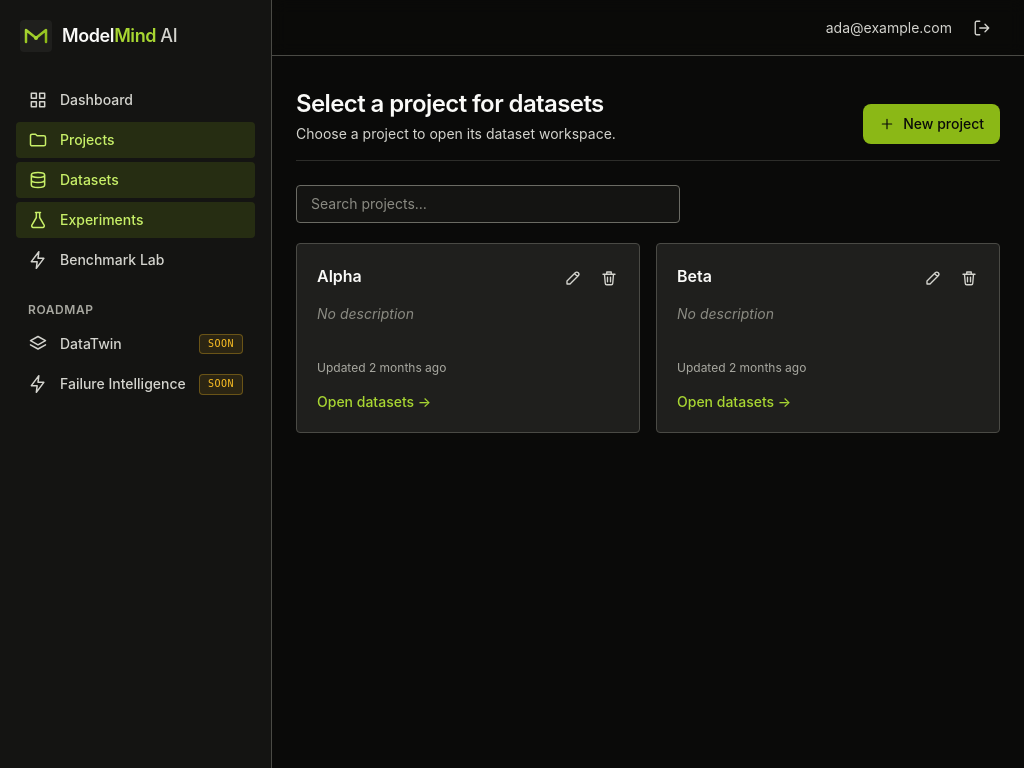
Test: Projects page › filters loaded projects by search text
Expected: the text "Alpha" is shown, 317,264 -> 362,288
In the search field labelled "Search projects": (488, 204) 296,185 -> 680,223, type "bet"
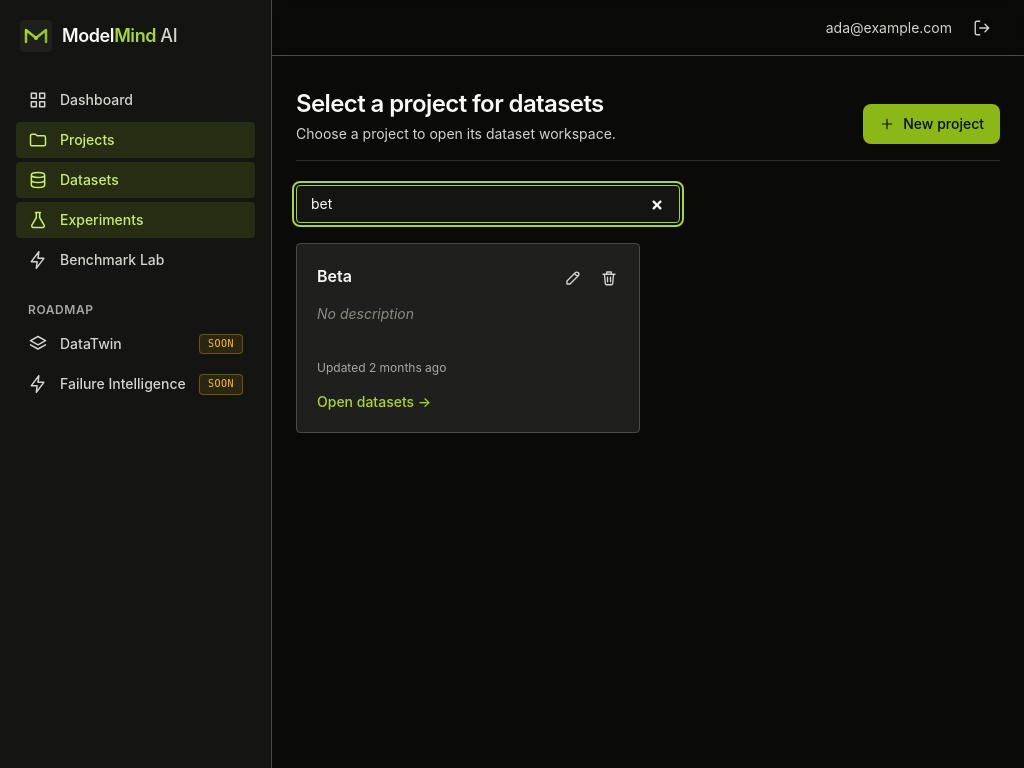
Expected: the text "Beta" is shown, 317,264 -> 352,288
Expected: the link "Alpha" is gone
